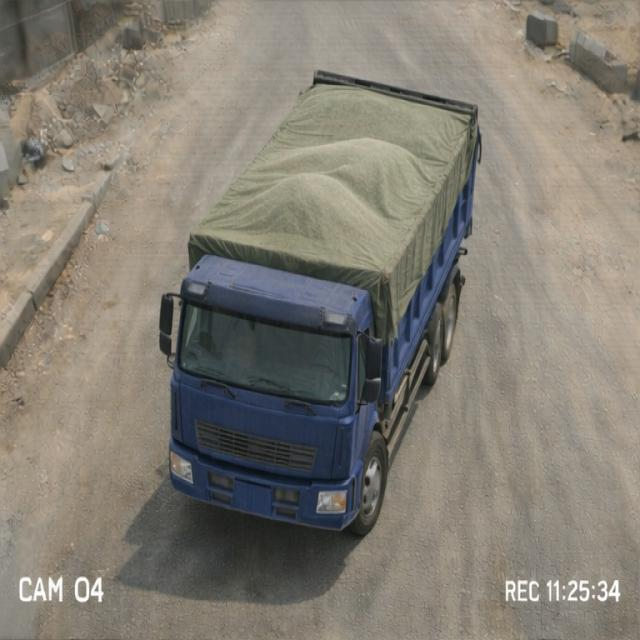Box: (193, 70, 487, 278)
Truck: (156, 59, 502, 535)
